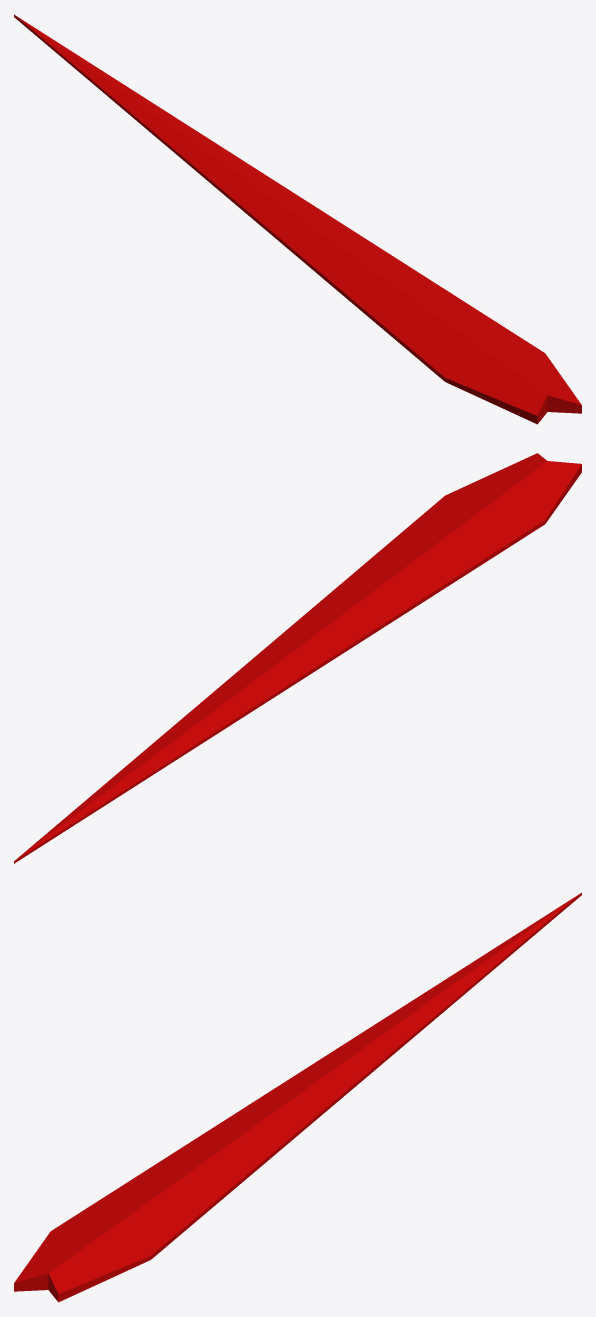
File: Arrow.fbx
The picture shows the model from 3 angles, top to bottom: view 1: azimuth 30°, elevation 25°; view 2: azimuth 150°, elevation 25°; view 3: azimuth 330°, elevation 25°; orthographic projection.
Visible parts, largest first — view 1: Cube; view 2: Cube; view 3: Cube.
Boxes of the visible parts, <box> form: Cube: <box>14,14,581,424</box>; Cube: <box>14,453,581,863</box>; Cube: <box>14,892,581,1302</box>.
Bounding box in the file's own units: 6 × 0.9552 × 56.61.
